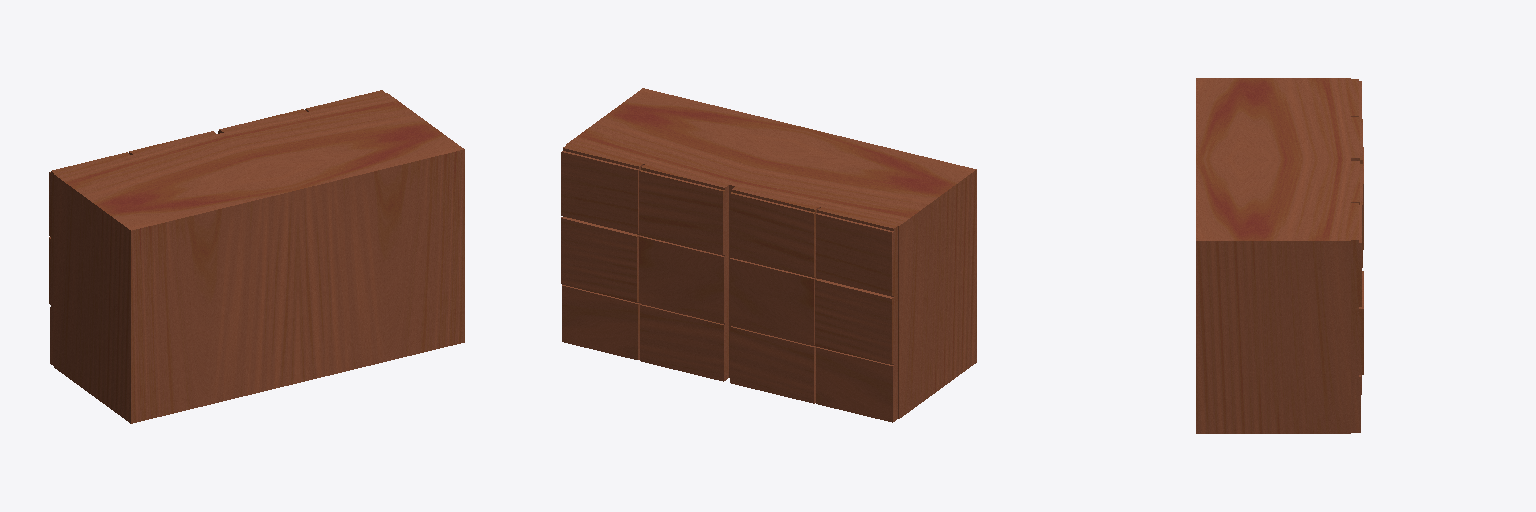
3 renders of one model, left to right at view 1: azimuth 30°, elevation 25°; view 2: azimuth 150°, elevation 25°; view 3: azimuth 270°, elevation 25°, orthographic.
Visible parts, largest first — view 1: Cube; view 2: Cube; view 3: Cube.
Part boxes in pixels (bbox=[...]): Cube: bbox=[49, 90, 464, 423]; Cube: bbox=[561, 88, 976, 422]; Cube: bbox=[1196, 78, 1363, 433].
Size of the model in its own units: 3.98 by 2.2 by 1.73.
Materials: 1 (1 with a texture image).